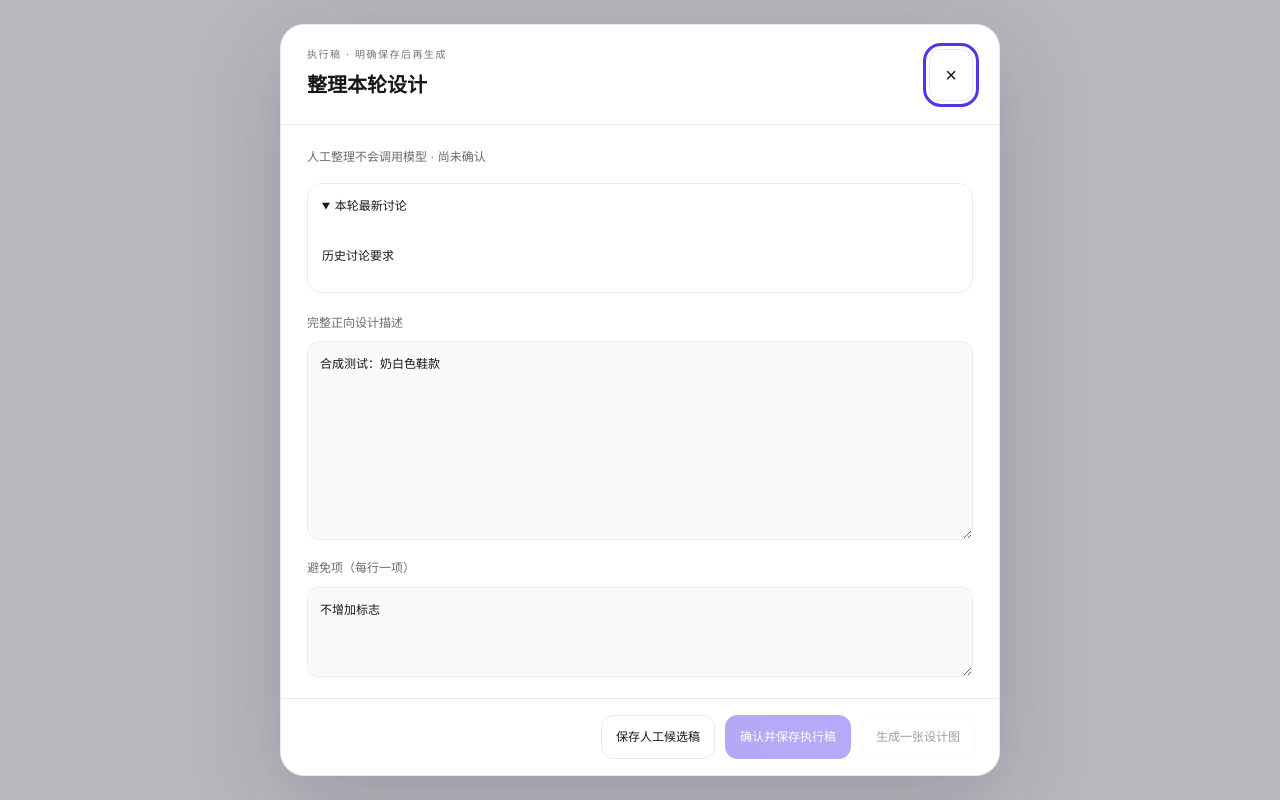
Test: 候选引用本人最新消息，历史其他作者消息仅可查看不被认领
Check: the text "历史讨论要求" is shown, box [322, 249, 394, 263]
Click the button "保存人工候选稿" at [658, 737], box [601, 715, 715, 759]
(page scrolled)
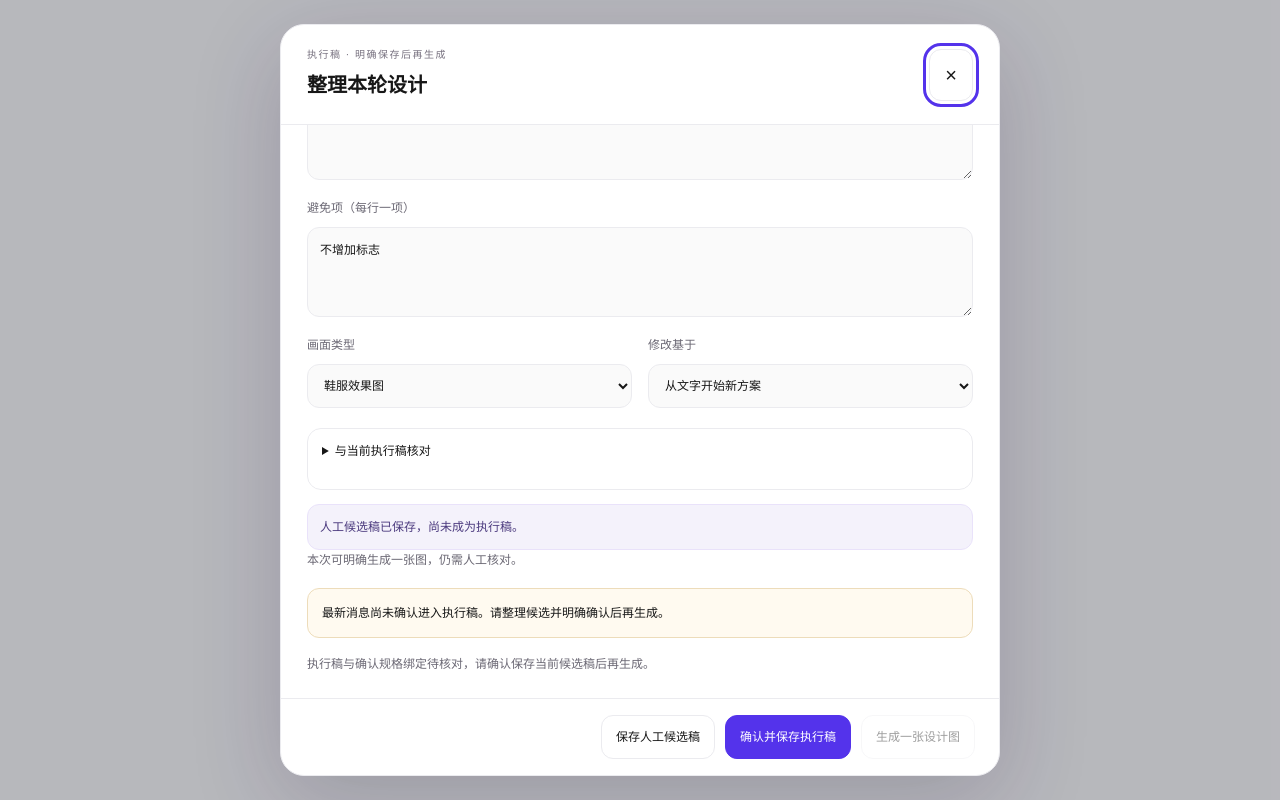
Check: the text "人工候选稿已保存，尚未成为执行稿。" is shown, box [307, 504, 973, 550]
